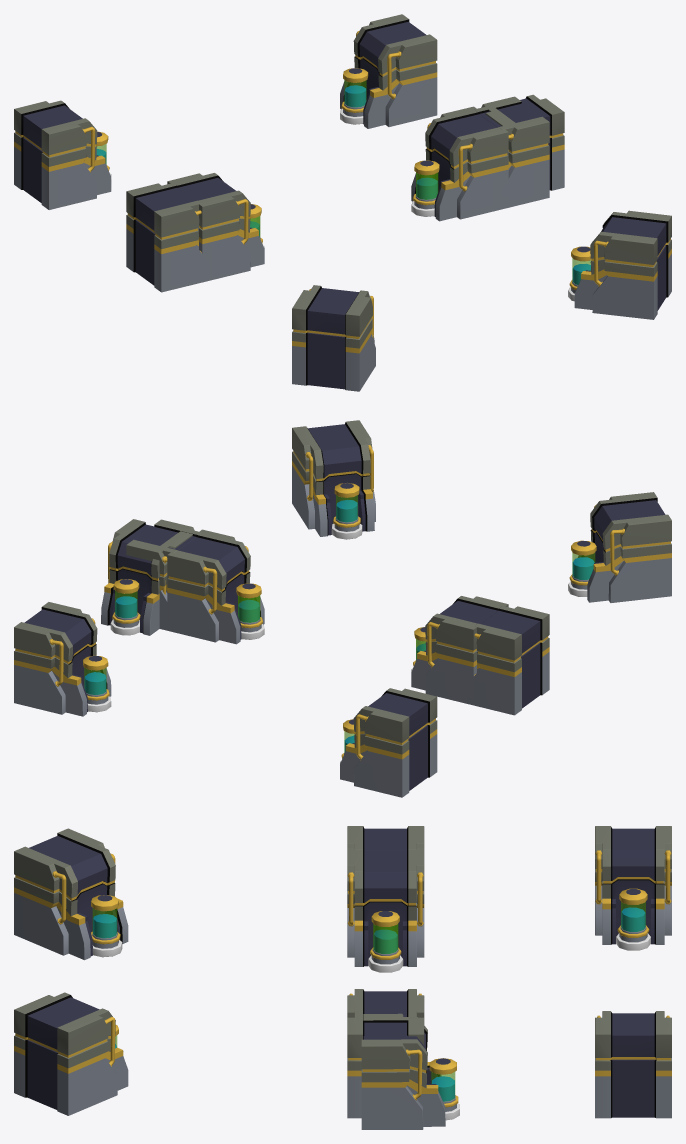
File: Wall_inmiddle2_.fbx
3 renders of one model, top to bottom at view 1: azimuth 30°, elevation 25°; view 2: azimuth 150°, elevation 25°; view 3: azimuth 270°, elevation 25°, orthographic. The views are drawn at different scales.
Parts seen in each view (by area): view 1: Base (×9), Bottle (×3); view 2: Base (×9), Bottle (×5); view 3: Base (×9), Bottle (×5).
Part boxes in pixels (<box>): Base (×9): <box>14,14,671,391</box>; Bottle (×3): <box>340,68,591,301</box>; Base (×9): <box>14,420,671,797</box>; Bottle (×5): <box>83,482,596,712</box>; Base (×9): <box>14,826,671,1129</box>; Bottle (×5): <box>91,888,650,1120</box>.
Bounding box in the file's own units: 407 × 72.16 × 513.
